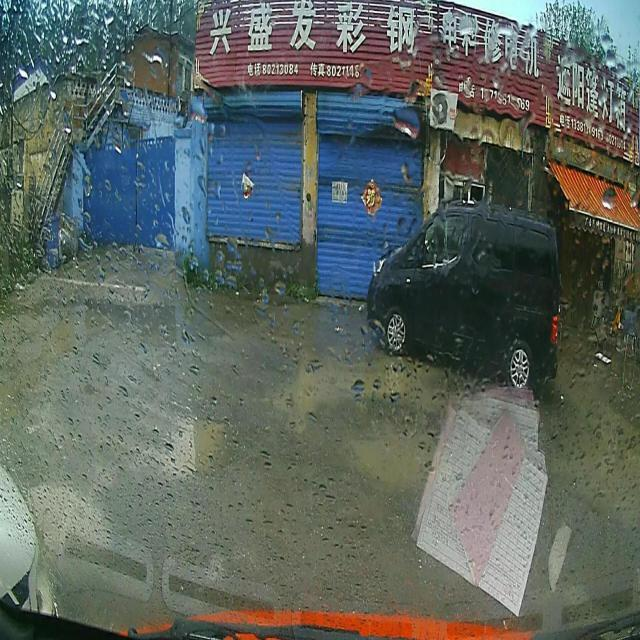car: (366, 204, 560, 392)
